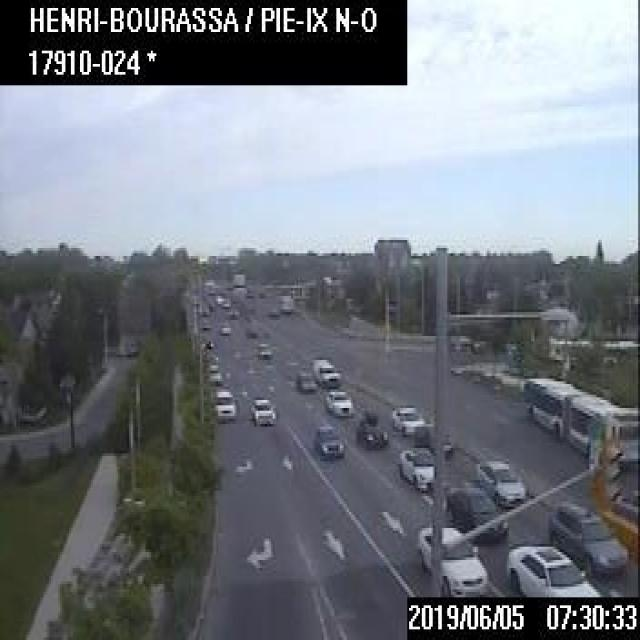bus: (518, 371, 638, 466)
vehicle: (546, 502, 627, 574), (505, 544, 599, 595), (416, 525, 484, 593), (444, 484, 508, 541), (475, 458, 525, 507), (397, 446, 433, 488), (311, 422, 347, 462), (354, 404, 388, 446), (414, 424, 450, 454), (390, 404, 423, 434), (248, 392, 276, 427), (310, 357, 340, 385), (323, 388, 352, 415), (213, 387, 235, 420), (295, 368, 315, 391), (276, 293, 292, 312), (255, 340, 271, 358), (205, 363, 220, 382), (231, 271, 245, 284), (219, 320, 229, 333), (228, 304, 236, 318)
